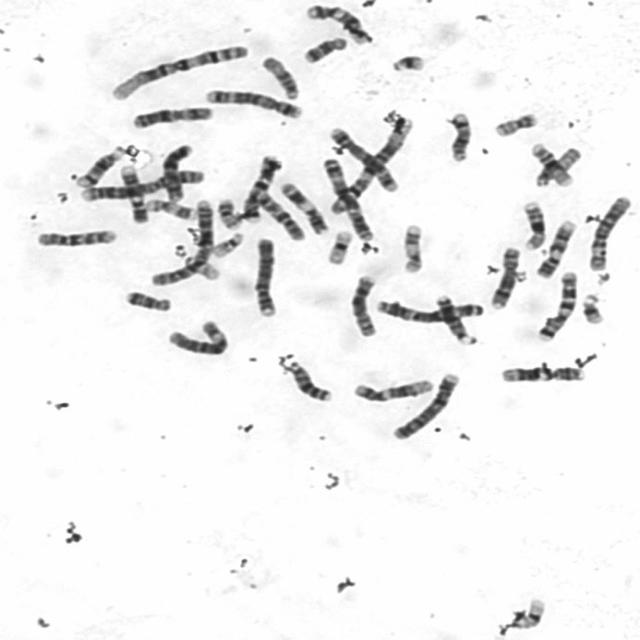A1: (326, 114, 417, 215), (106, 40, 250, 102)
A2: (148, 195, 216, 288), (76, 167, 206, 203)
A3: (319, 156, 375, 240), (373, 296, 484, 325)
B4: (388, 370, 462, 441), (250, 234, 278, 319)
B5: (326, 124, 401, 194), (202, 86, 306, 120)
C10: (244, 188, 307, 242), (32, 226, 118, 249)
C11: (277, 179, 330, 237), (497, 363, 585, 384)
C12: (303, 1, 373, 45), (349, 376, 435, 403)
C6: (584, 192, 634, 273), (162, 316, 232, 358)
C7: (533, 267, 579, 343), (241, 152, 285, 225)
C8: (486, 244, 524, 311), (346, 271, 379, 339)
C9: (533, 216, 578, 279), (116, 162, 150, 224)
D13: (431, 292, 476, 347), (282, 359, 334, 403)
D14: (72, 144, 125, 188), (442, 109, 473, 162)
D15: (529, 142, 582, 188), (259, 53, 301, 100)
E16: (528, 140, 576, 189), (519, 199, 548, 251)
E17: (398, 220, 427, 276), (141, 196, 197, 220)
E18: (299, 34, 348, 64), (122, 287, 173, 313)
F19: (322, 228, 354, 265), (515, 597, 547, 629)
F20: (490, 109, 540, 138), (214, 195, 245, 230)
G21: (579, 290, 605, 326), (386, 51, 428, 73)
G22: (182, 252, 222, 281), (210, 230, 246, 258)
X: (127, 103, 215, 130), (158, 142, 195, 204)
